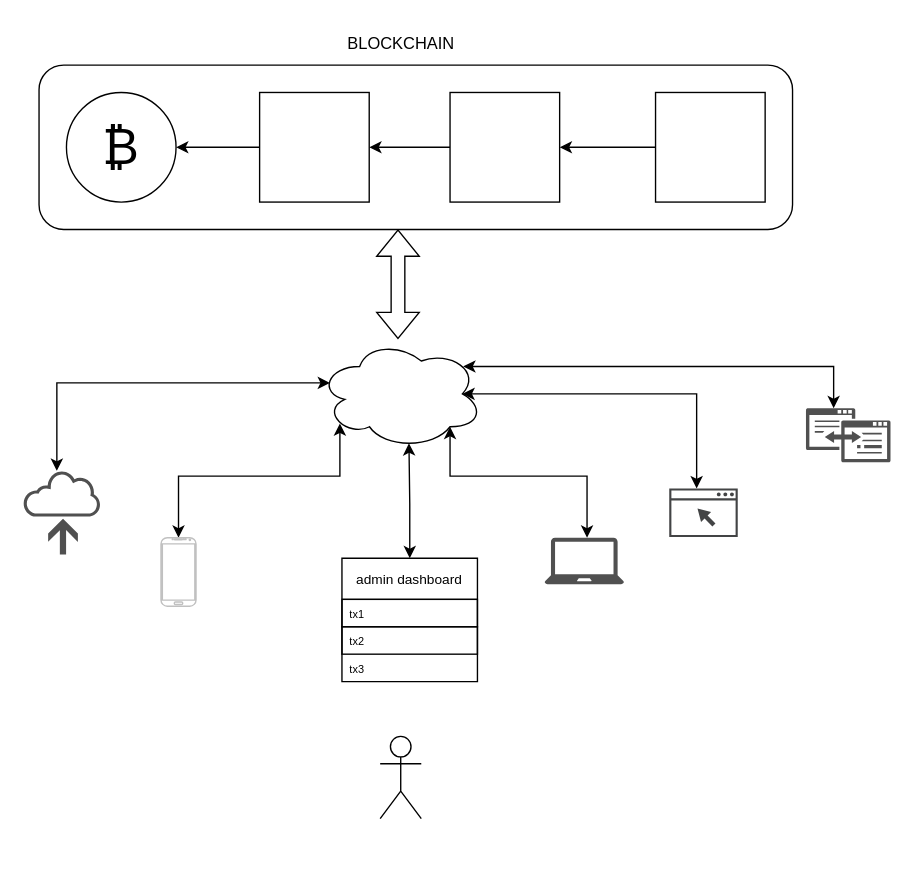
Image size: 914x870. Some labels were removed from this diagram. The centre of each missing label's shape, as x and y in pixels:
Actor: point 400,777
BitCache: point 400,393
